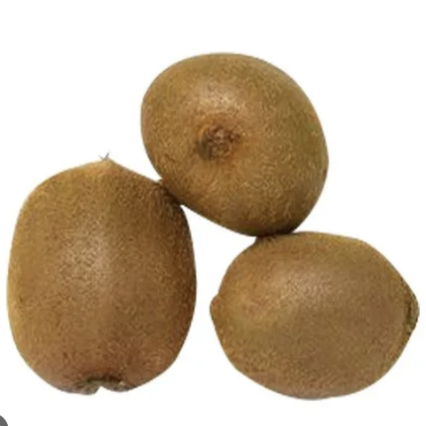kiwi: (0, 140, 206, 417), (126, 37, 349, 253), (199, 232, 419, 422)
